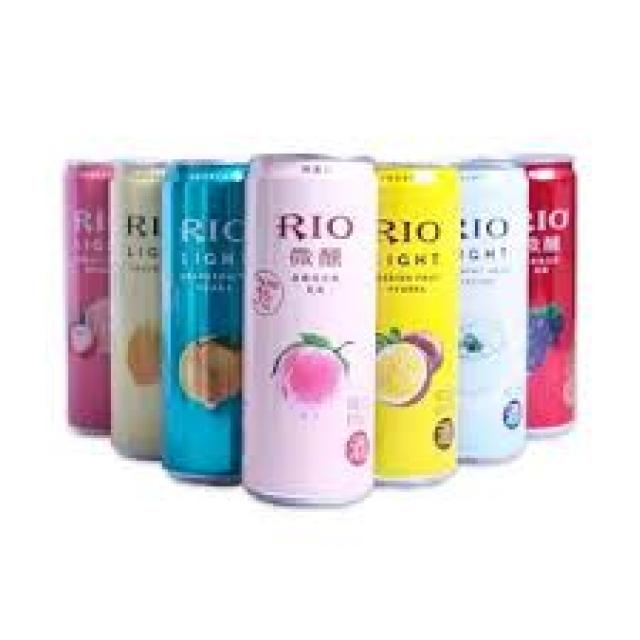Cans: (236, 139, 387, 506)
